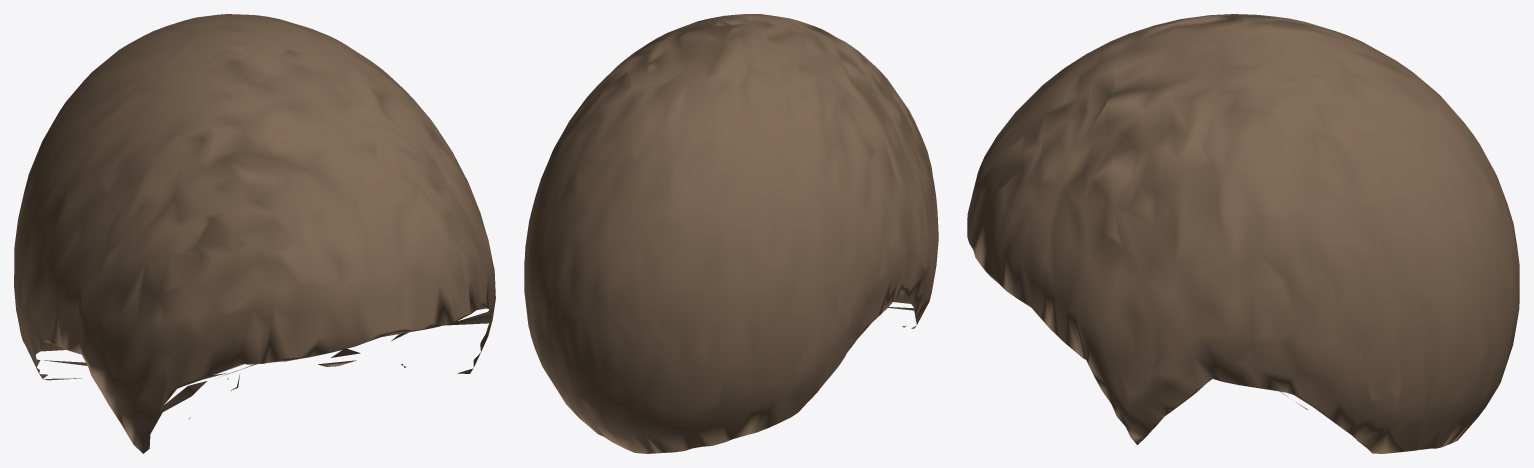
File: hair32-male-buzz-a2.glb
3 renders of one model, left to right at view 1: azimuth 30°, elevation 25°; view 2: azimuth 150°, elevation 25°; view 3: azimuth 270°, elevation 25°, orthographic. The views are drawn at different scales.
Parts seen in each view (by area): view 1: hair32-buzz; view 2: hair32-buzz; view 3: hair32-buzz.
Part boxes in pixels (box(x1,y1,x2,y2)): hair32-buzz: box(14, 14, 495, 453); hair32-buzz: box(524, 14, 938, 453); hair32-buzz: box(967, 14, 1519, 453).
Size of the model in its own units: 0.1593 by 0.1601 by 0.2003.
